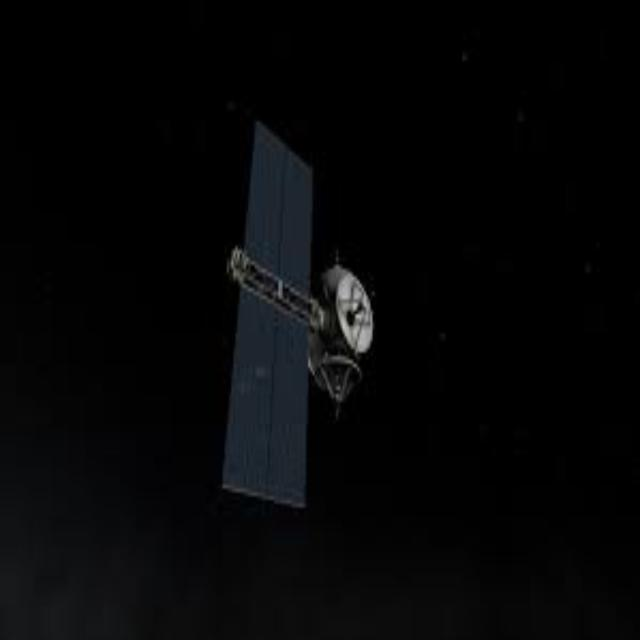sat: (174, 76, 400, 538)
